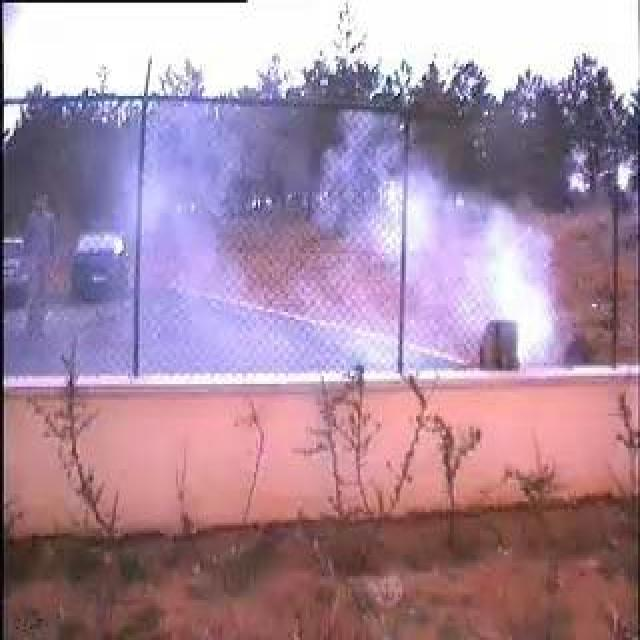Smoke: (129, 111, 557, 364)
